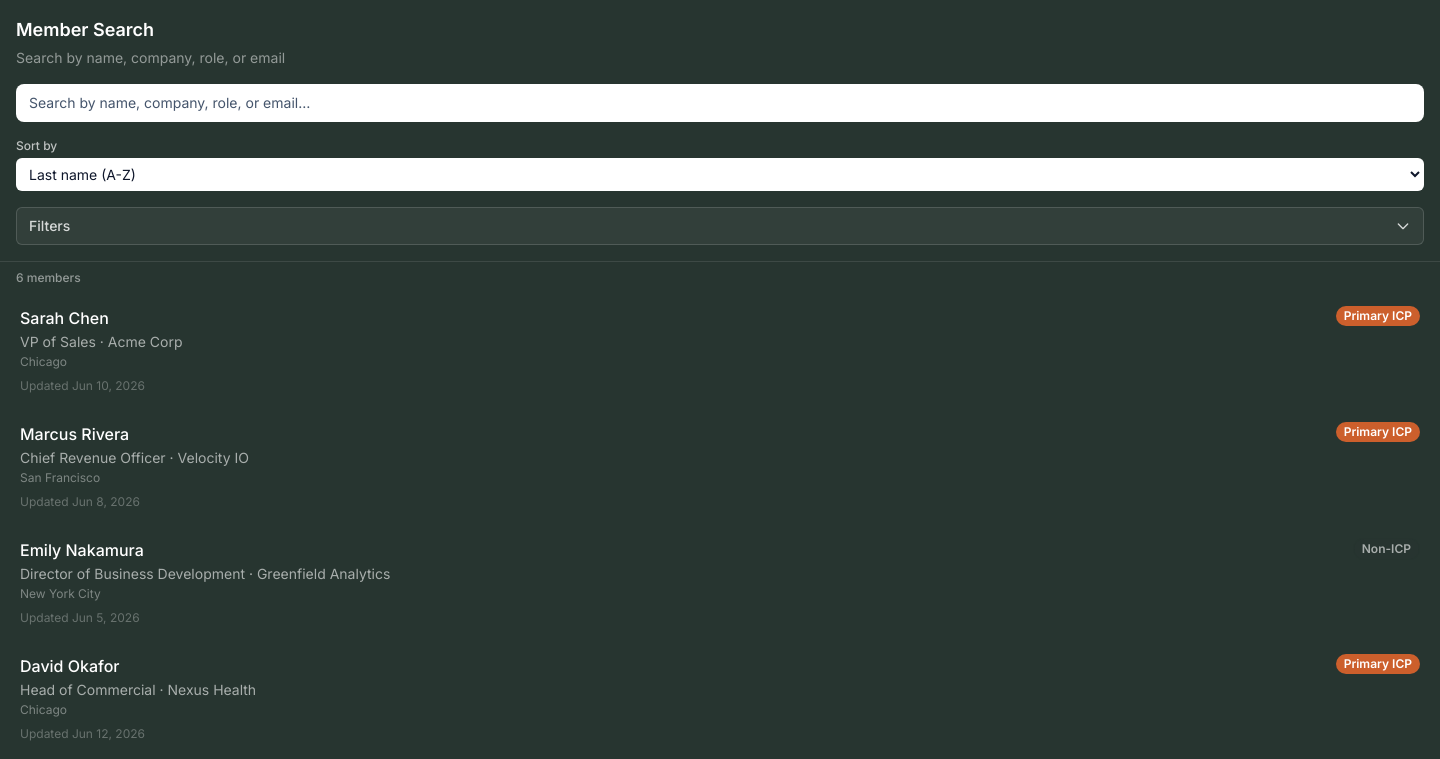
Test case: MemberSearchPanel › typing in the search input updates results
Check: the text "6 members" is shown, box [16,270,81,286]
Step 1. Type "Sarah" into the search field → (720, 103), box [16,84,1424,122]
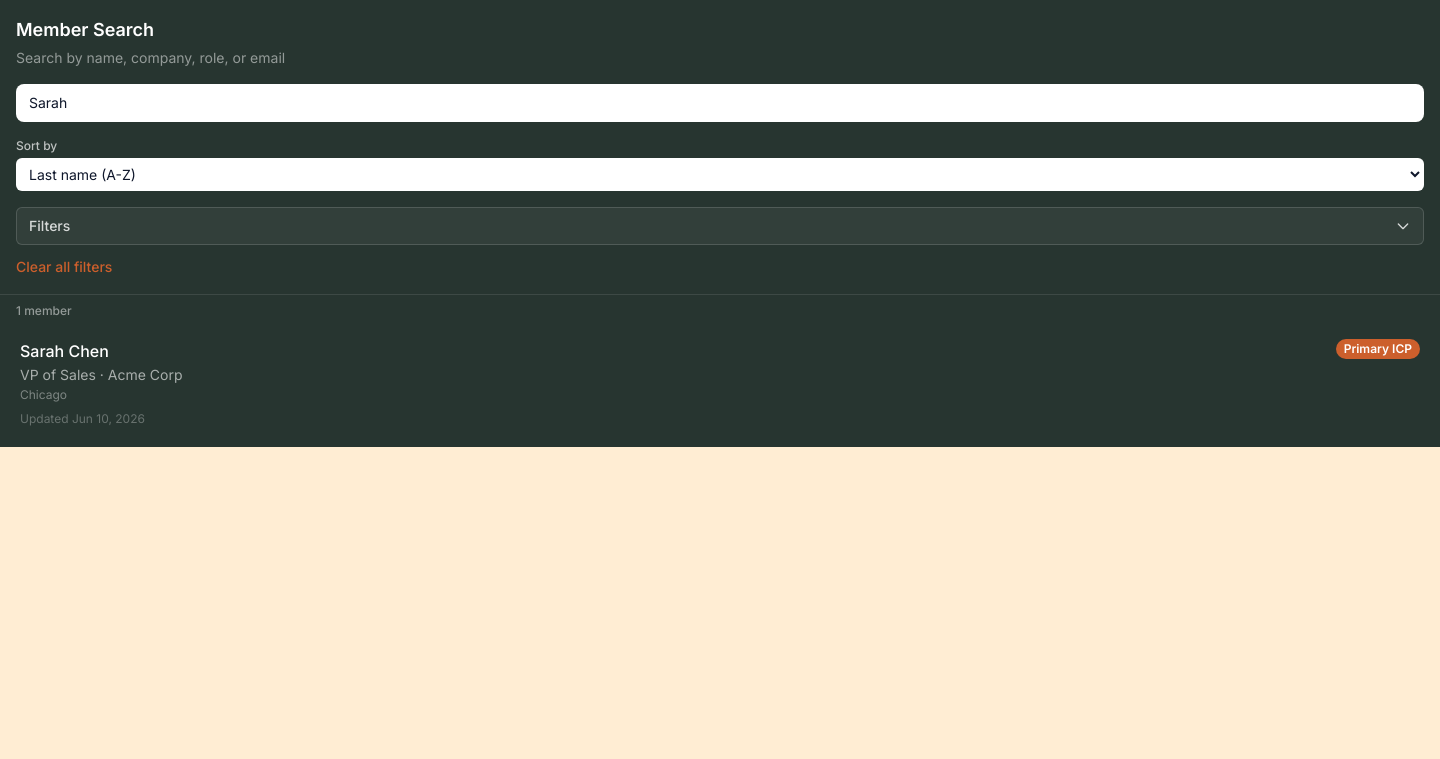
Check: the text "Sarah Chen" is shown, box [20,341,109,361]
Check: the text "1 member" is shown, box [16,303,72,319]
Check: the button "Marcus Rivera" is gone
